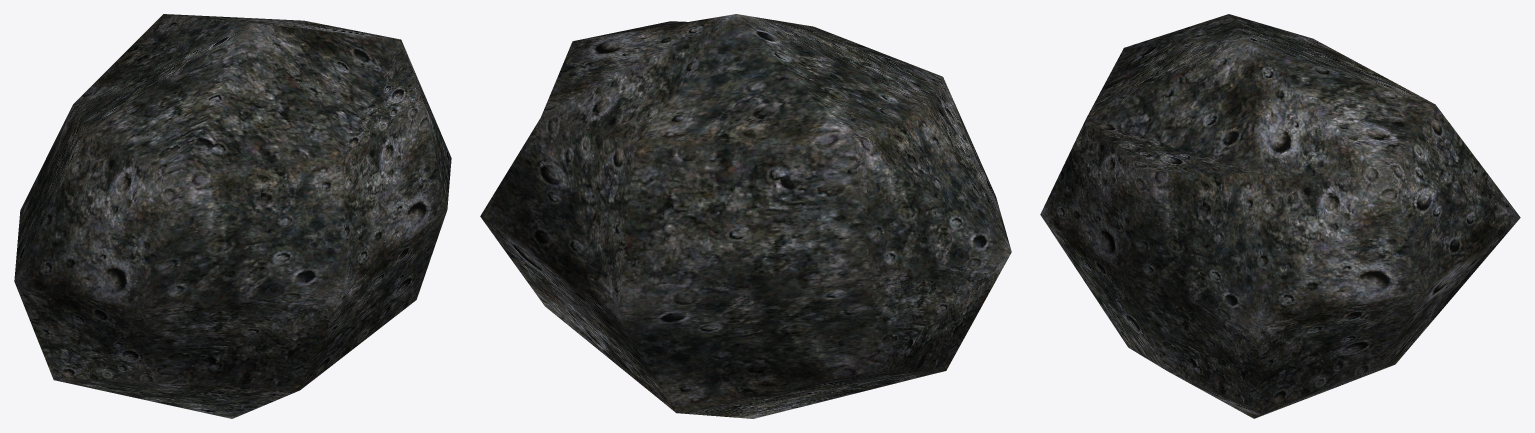
File: asteroid_iron_large_s02_l2.fbx
The picture shows the model from 3 angles, left to right: view 1: azimuth 30°, elevation 25°; view 2: azimuth 150°, elevation 25°; view 3: azimuth 270°, elevation 25°; orthographic projection. The views are drawn at different scales.
Parts seen in each view (by area): view 1: mesh_node; view 2: mesh_node; view 3: mesh_node.
Part boxes in pixels (left/top/right/bottom): mesh_node: left=14, top=14, right=451, bottom=418; mesh_node: left=480, top=14, right=1011, bottom=418; mesh_node: left=1040, top=14, right=1520, bottom=418.
Bounding box in the file's own units: 99.39 × 81.51 × 92.03.
